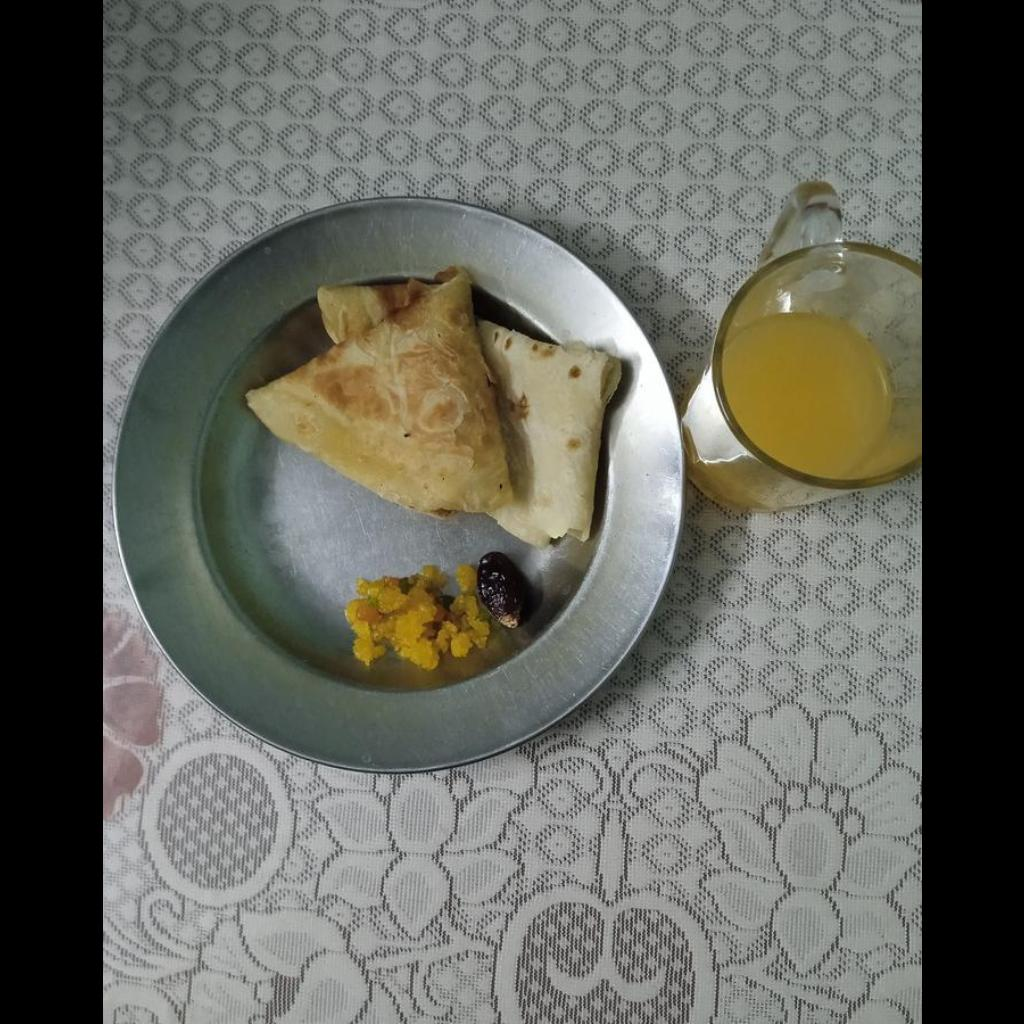burinda: (349, 571, 488, 661)
dates: (477, 553, 523, 628)
juice: (726, 321, 892, 472)
ruti: (246, 270, 619, 543)
